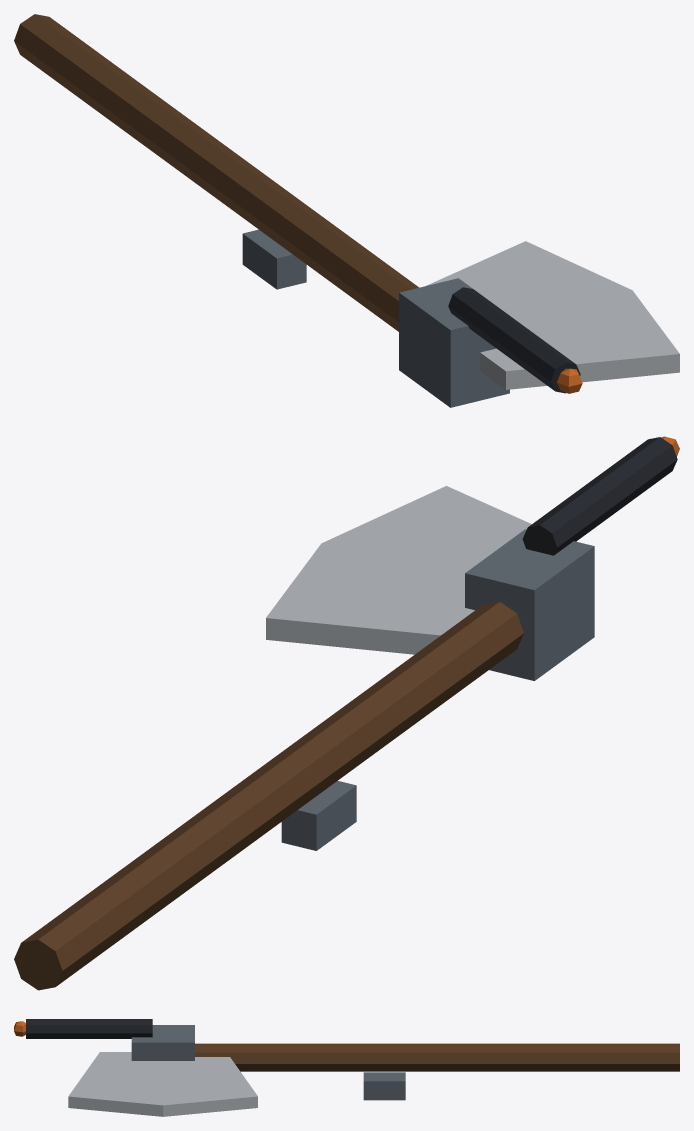
Rendered from shotgun-axe.glb.
3 views of the same model, one above another, from view 1: azimuth 30°, elevation 25°; view 2: azimuth 150°, elevation 25°; view 3: azimuth 270°, elevation 25° (orthographic). The views are drawn at different scales.
Parts seen in each view (by area): view 1: m; view 2: m; view 3: m.
Boxes of the visible parts, box(x1,y1,x2,y2) form: m: box(14, 14, 679, 407); m: box(14, 436, 679, 990); m: box(14, 1019, 679, 1116).
Bounding box in the file's own units: 0.133 × 0.076 × 0.6.
